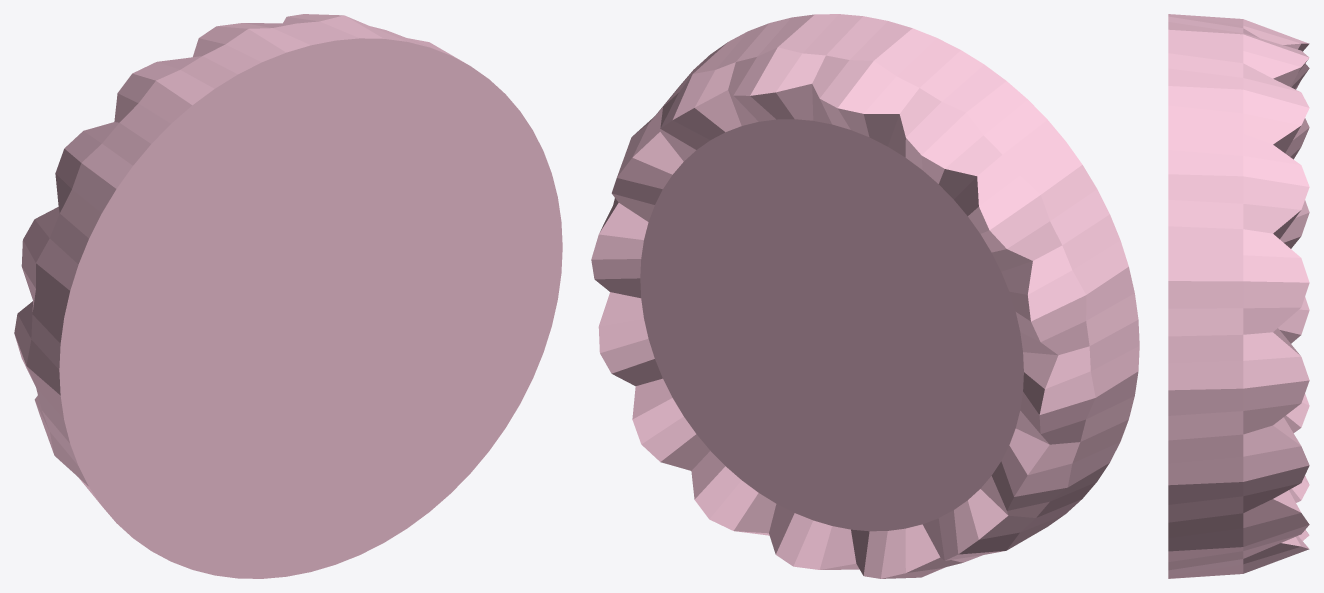
File: head_01.glb
3 views of the same model, side by side, from view 1: azimuth 30°, elevation 25°; view 2: azimuth 150°, elevation 25°; view 3: azimuth 270°, elevation 25° (orthographic). The views are drawn at different scales.
Visible parts, largest first — view 1: head_01; view 2: head_01; view 3: head_01.
Part boxes in pixels (bbox=[...]): head_01: bbox=[14, 14, 562, 578]; head_01: bbox=[591, 14, 1139, 578]; head_01: bbox=[1168, 14, 1309, 578].
Size of the model in its own units: 2.19 by 2.19 by 0.5485.
